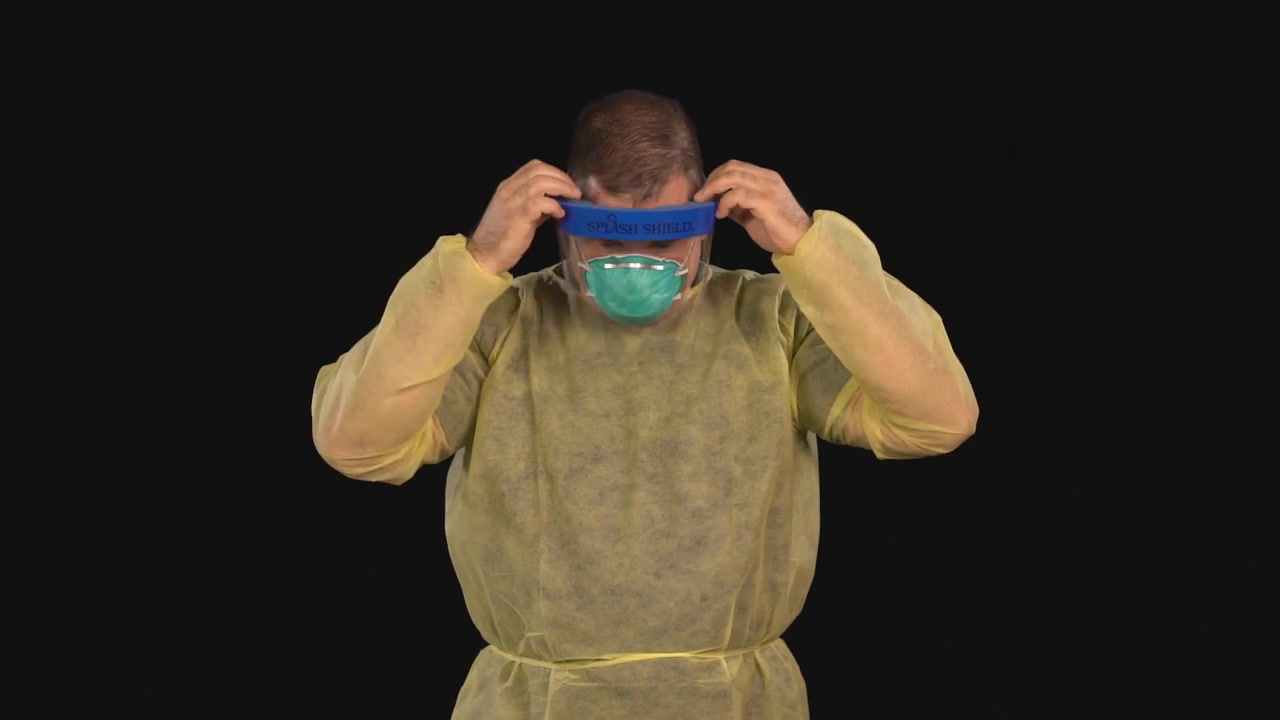Coverall: (367, 208, 917, 720)
Face_Shield: (537, 190, 718, 348)
with_mask: (574, 241, 685, 325)
